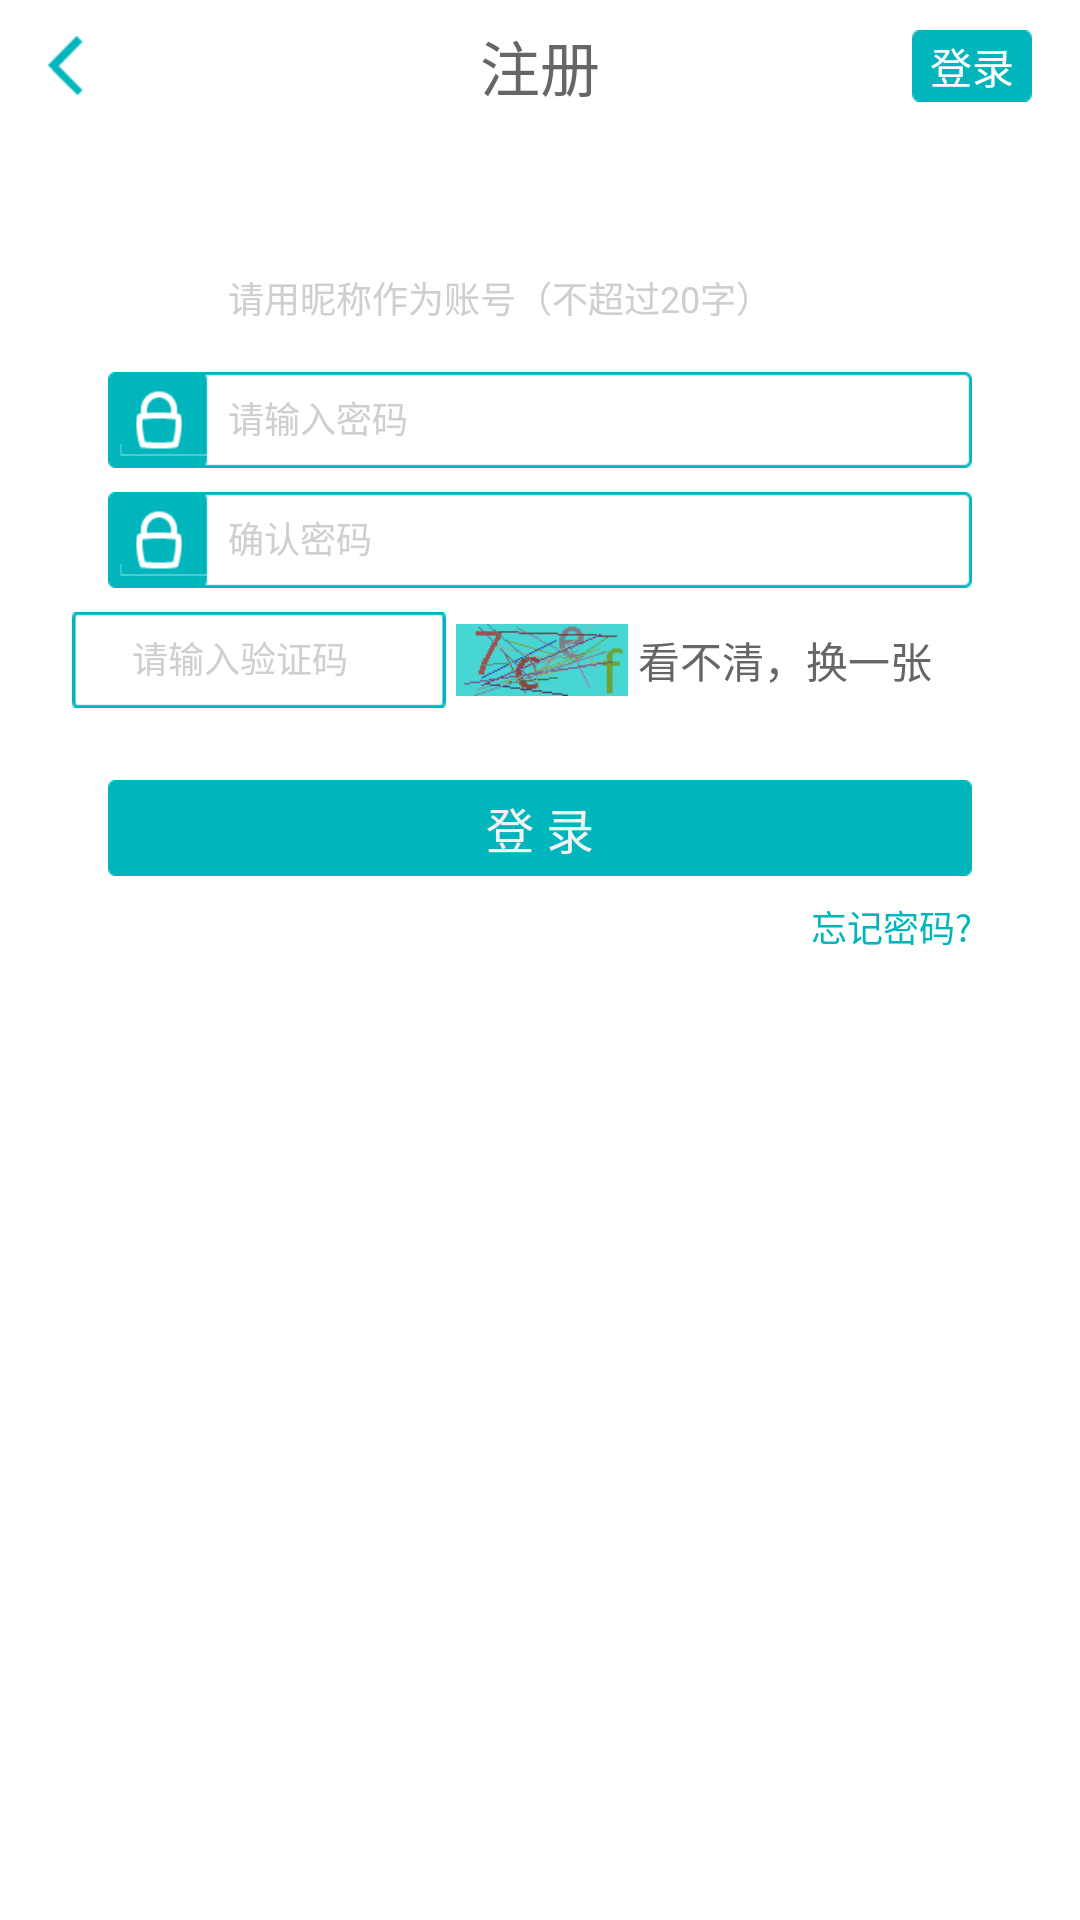

Locate icon controls on the screen. Image size 1080 × 1920, boxes as (x1, y1, x2, y2).
location back: (48, 36, 83, 96)
verification code: (456, 624, 628, 696)
